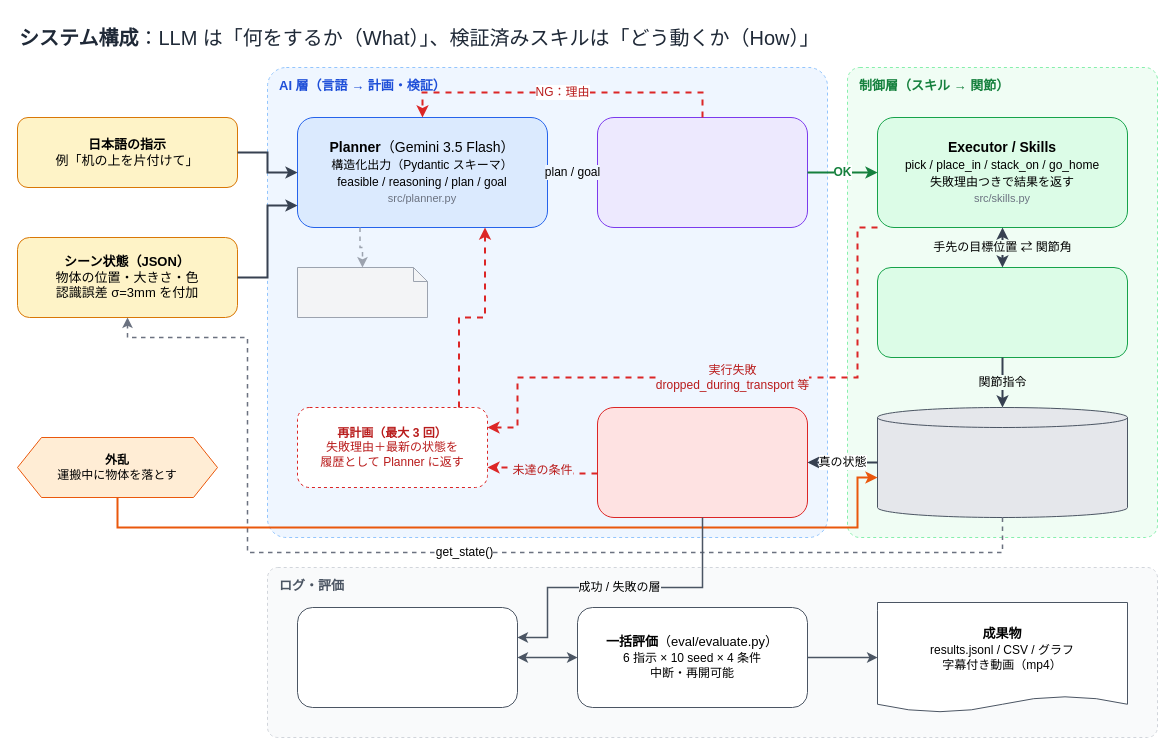
Some shapes in this 1175 by 755 pixel diagram are drawn without their labels. The centre of each missing label's shape, as x and y in pixels:
feasible=false → 実行を拒否: pixel 362 292
MuJoCo シミュレータ Franka Panda・机・箱 2・ブロック 4 src/sim.py: pixel 1002 462
Runner （src/run.py） 1 指示の閉ループを管理 LLM に見せない正解判定: pixel 407 657
Validator （実行前） 存在しない ID・引数・ 前提条件を記号的に検査 src/validator.py: pixel 702 172
Verifier （実行後） 成功条件を述語で判定 in / on / on_table / holding src/verifier.py: pixel 702 462
逆運動学（DLS） ＋最小躍度補間 Δq = Jᵀ(JJᵀ+λ²I)⁻¹e、50Hz src/ik.py: pixel 1002 312
